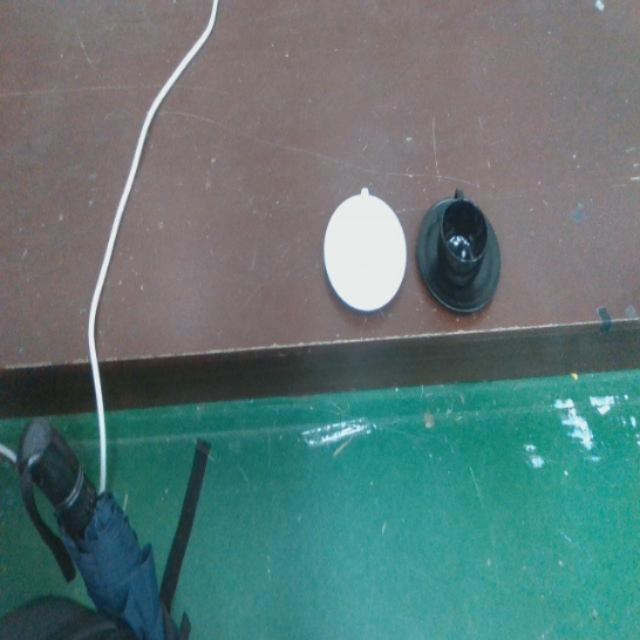black: (414, 186, 502, 319)
white: (322, 183, 409, 316)
